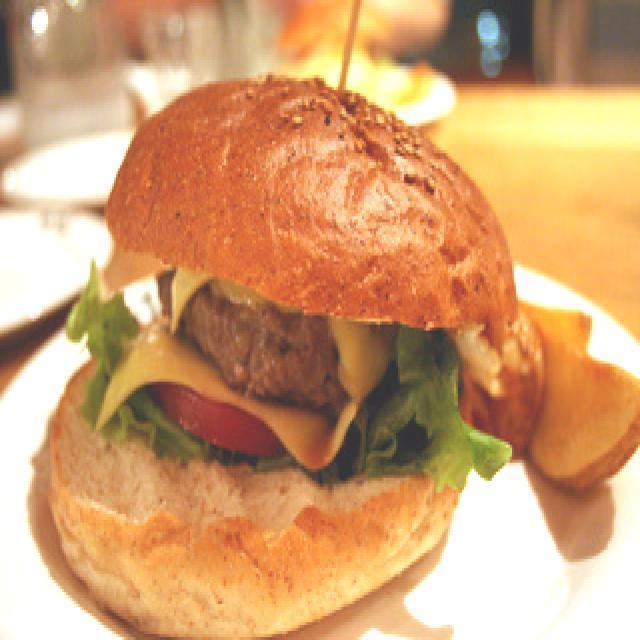hamburger: (56, 48, 518, 637)
